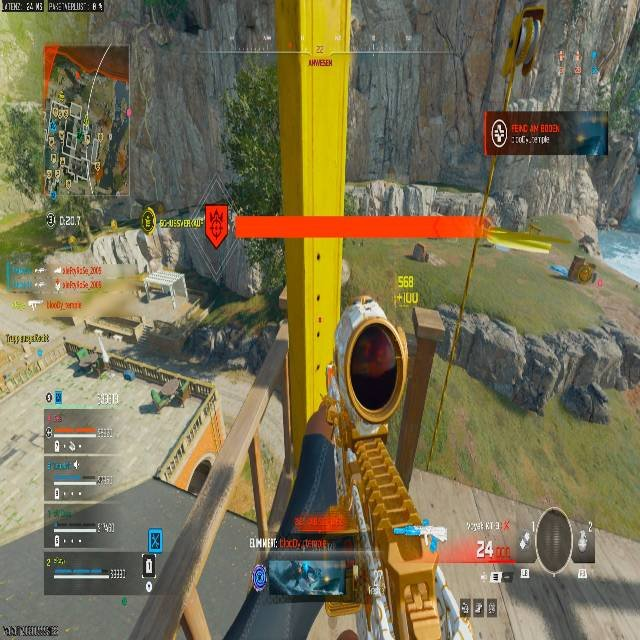head: (334, 297, 410, 386), (201, 202, 231, 244)
